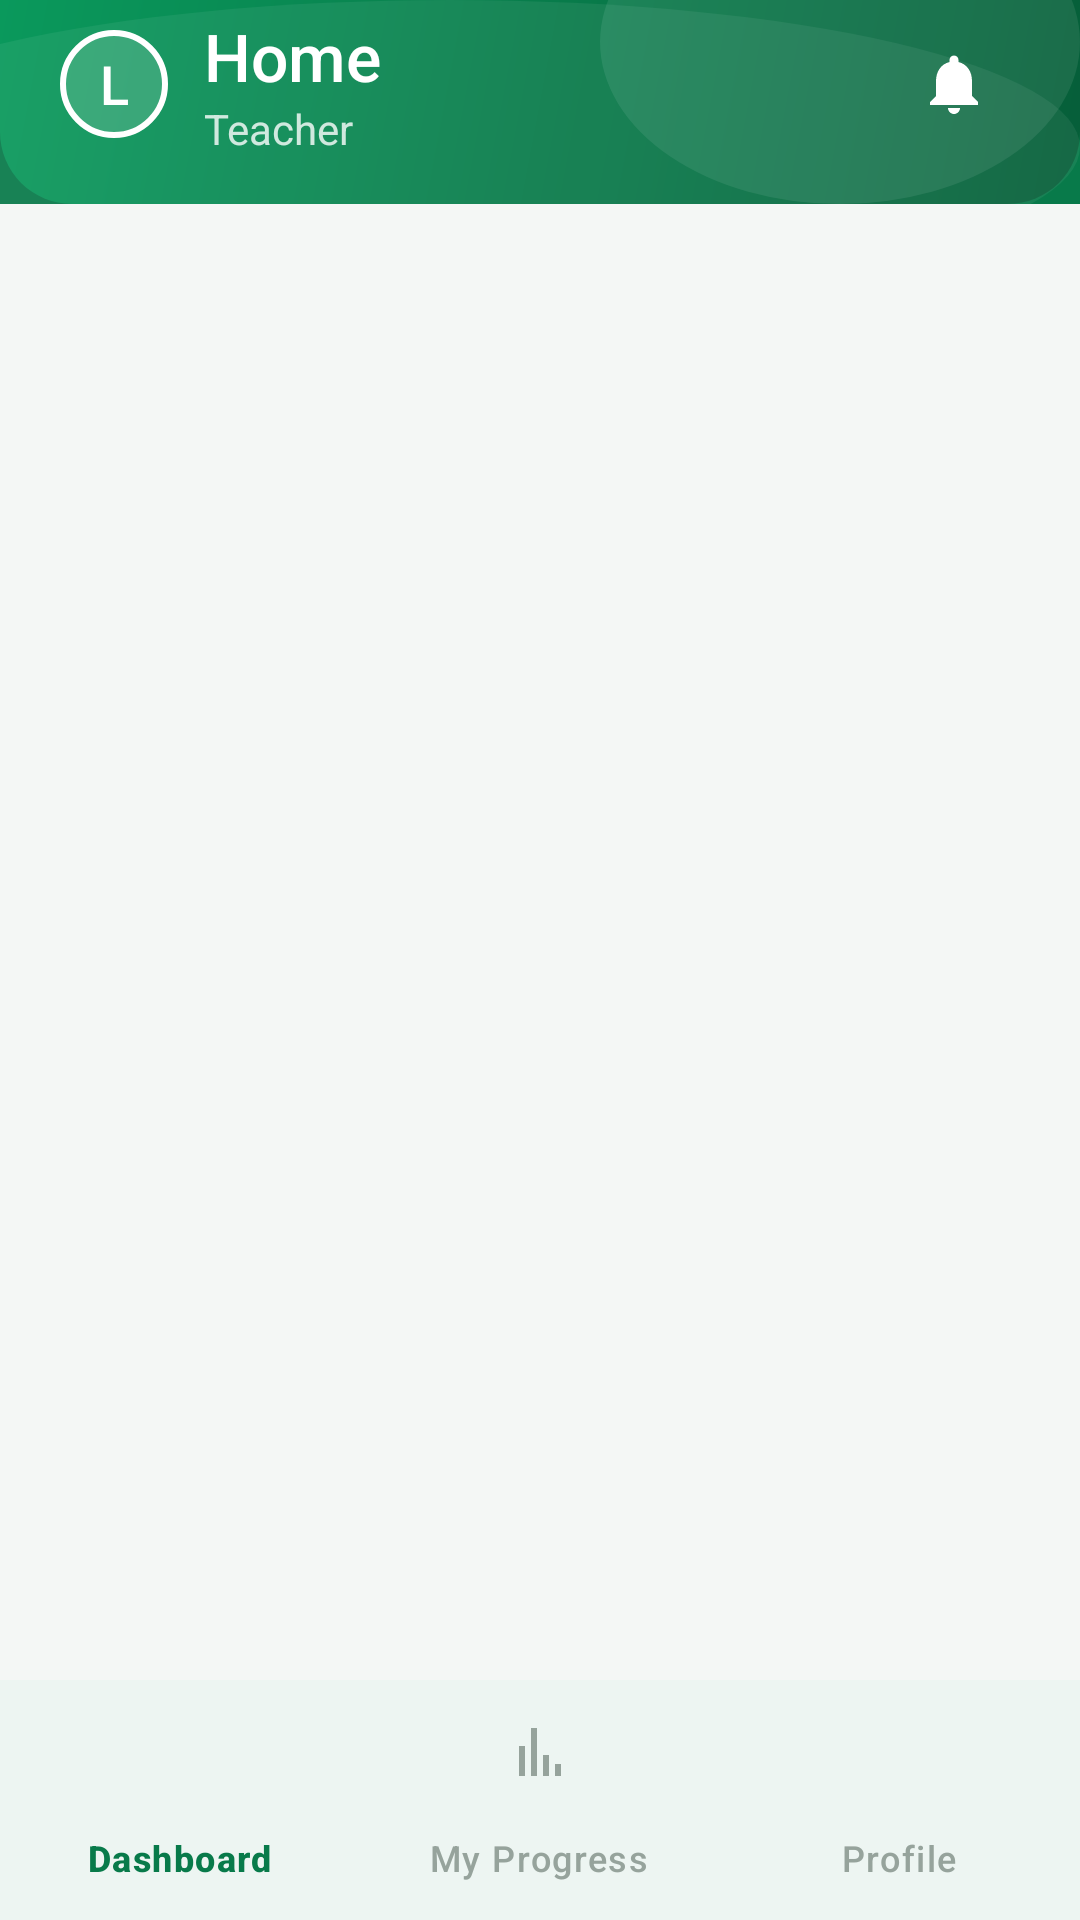

Locate icon controls on the screen. Image size 1080w x 1920h, boxes as [x1=x1, y1=y1, x2=x2, y2=y2].
Notifications: [x1=930, y1=55, x2=978, y2=114]
